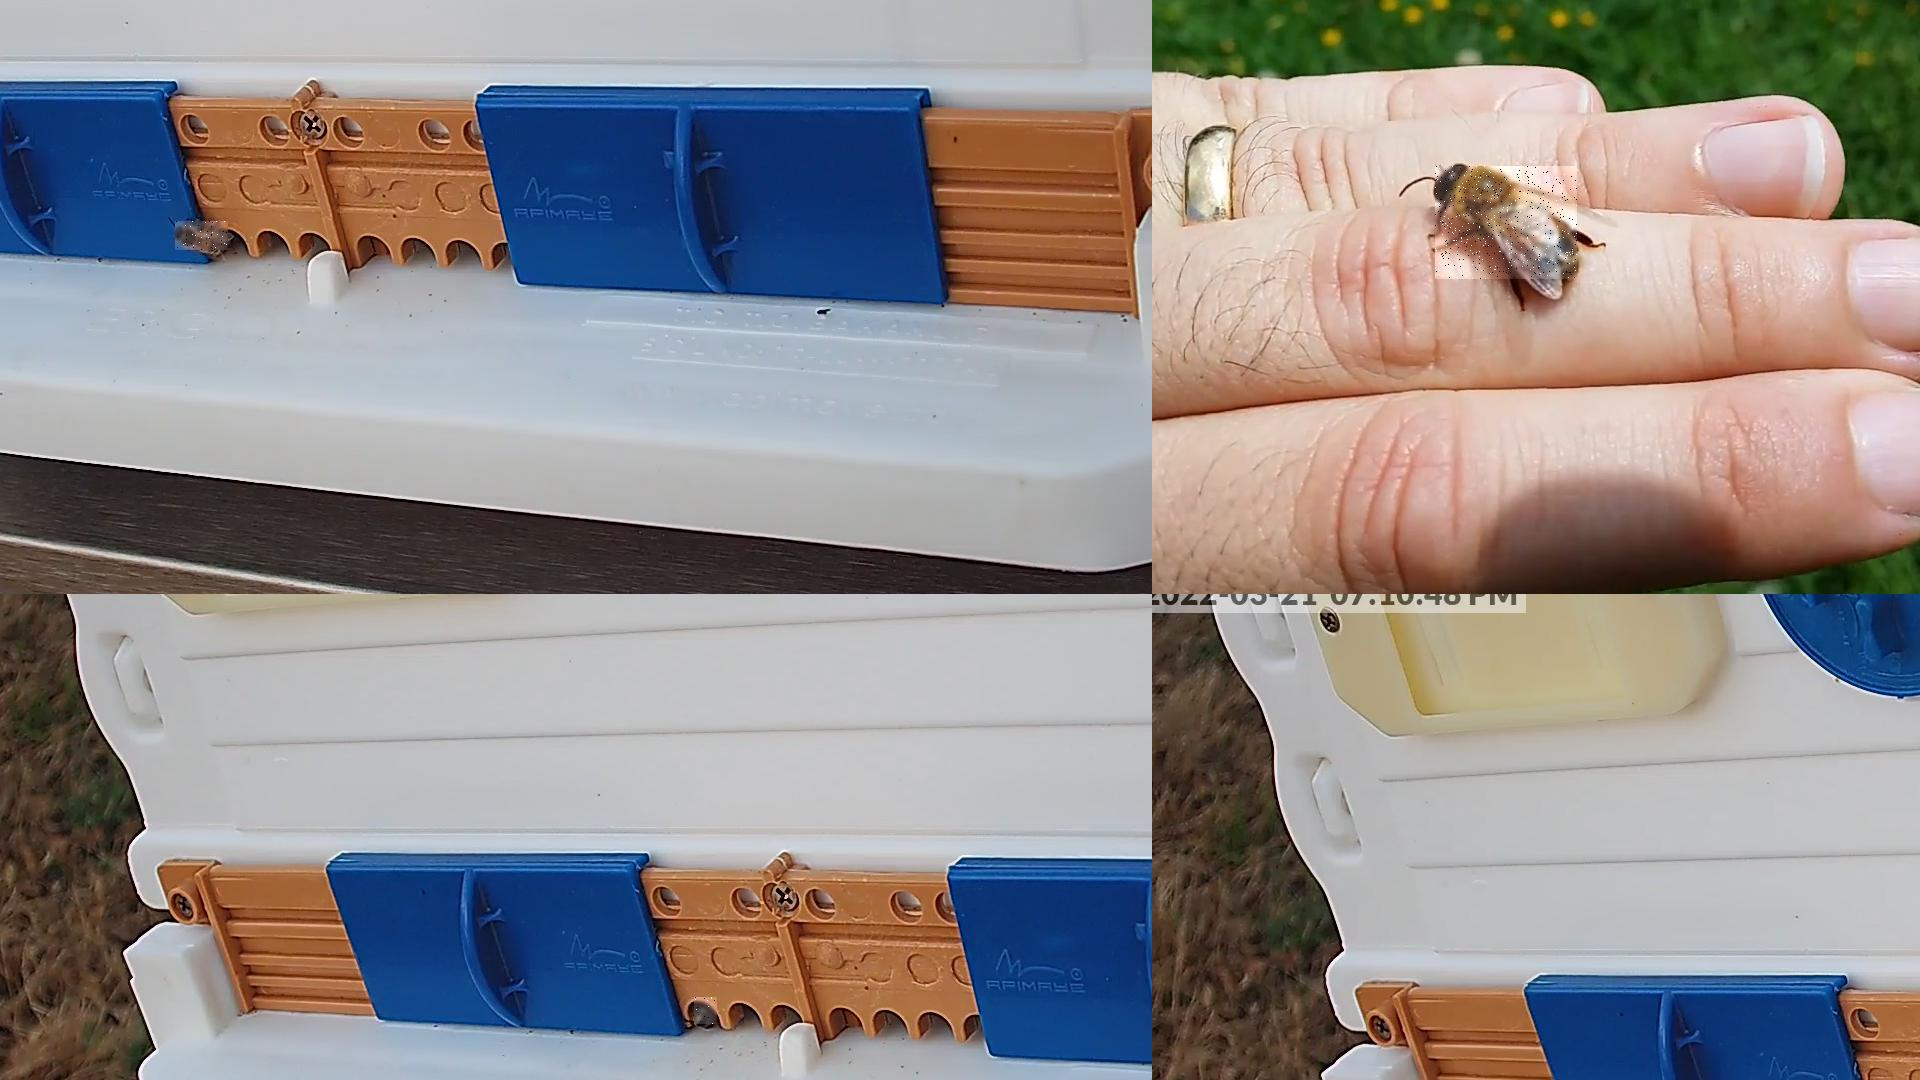bee: (176, 221, 231, 251), (694, 997, 718, 1025)
drone: (1435, 166, 1578, 280)
